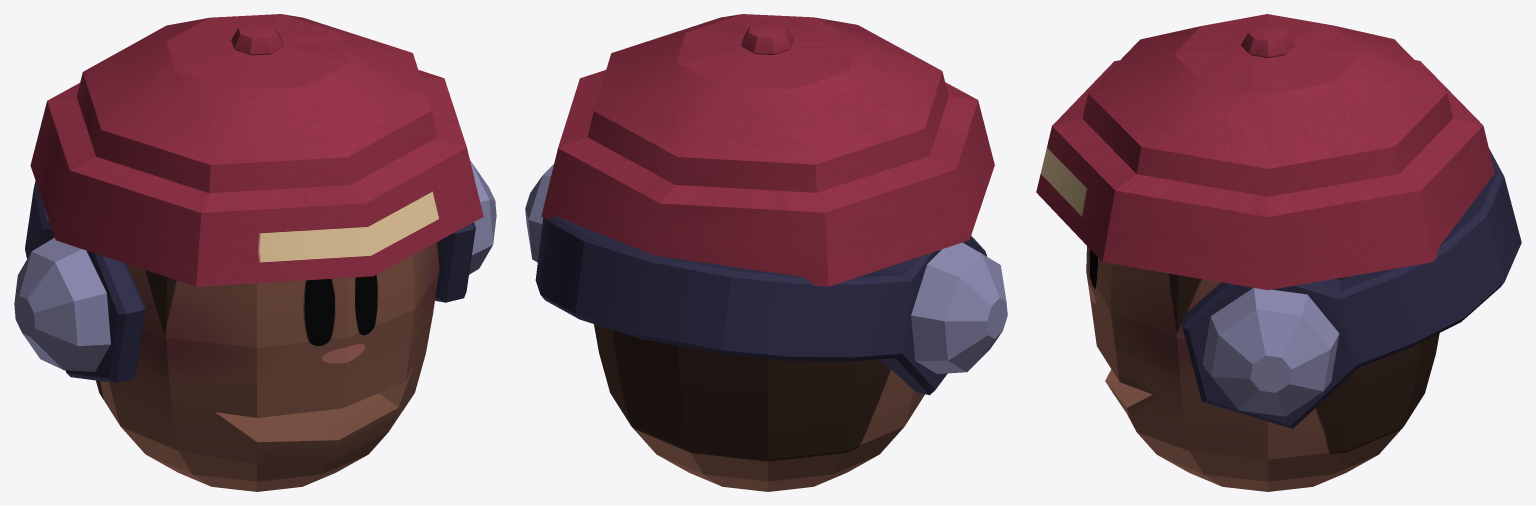
The model's file is Oval_Black_Skin.fbx.
3 renders of one model, left to right at view 1: azimuth 30°, elevation 25°; view 2: azimuth 150°, elevation 25°; view 3: azimuth 270°, elevation 25°, orthographic.
Parts seen in each view (by area): view 1: Oval_Black_Skin_cap, Oval_Black_Skin_Head, Oval_Black_Skin_Headphone; view 2: Oval_Black_Skin_cap, Oval_Black_Skin_Headphone, Oval_Black_Skin_Head; view 3: Oval_Black_Skin_cap, Oval_Black_Skin_Headphone, Oval_Black_Skin_Head.
Part boxes in pixels (x1,y1,x2,y2): Oval_Black_Skin_cap: (30,14,483,286); Oval_Black_Skin_Head: (96,241,439,491); Oval_Black_Skin_Headphone: (14,161,496,382); Oval_Black_Skin_cap: (541,14,994,286); Oval_Black_Skin_Headphone: (525,164,1007,395); Oval_Black_Skin_Head: (594,324,924,491); Oval_Black_Skin_cap: (1036,14,1494,290); Oval_Black_Skin_Headphone: (1182,148,1521,428); Oval_Black_Skin_Head: (1086,246,1439,491).
Bounding box in the file's own units: 17.01 × 15.83 × 15.57.
